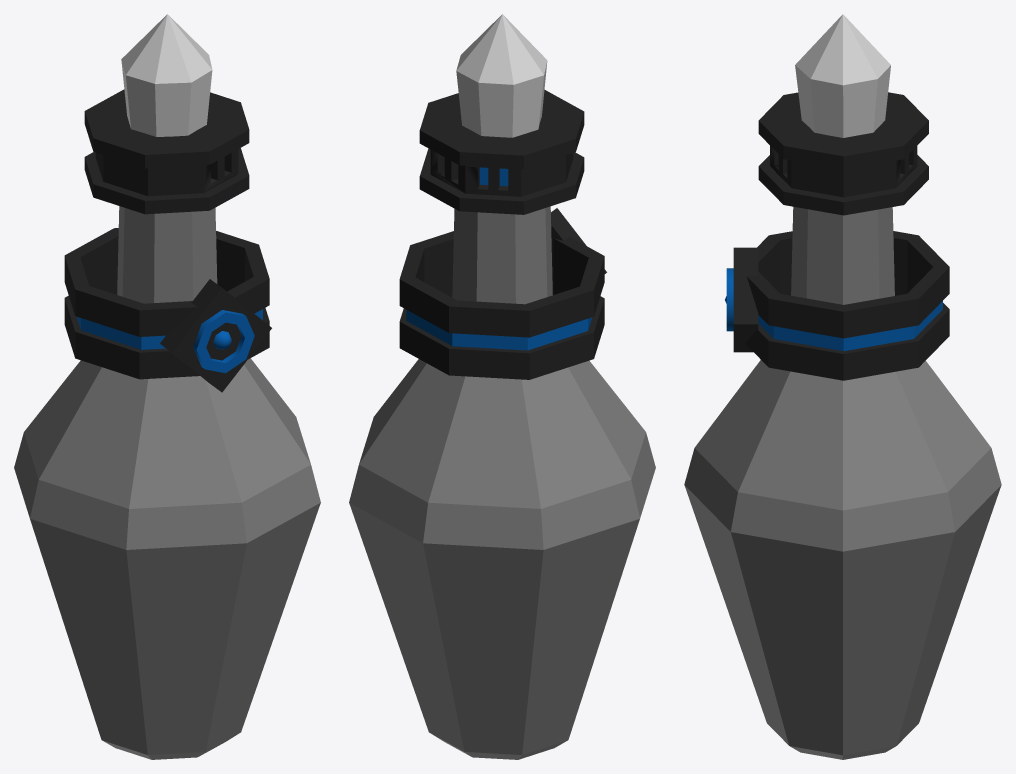
File: potion01(final).FBX
The picture shows the model from 3 angles, left to right: view 1: azimuth 30°, elevation 25°; view 2: azimuth 150°, elevation 25°; view 3: azimuth 270°, elevation 25°; orthographic projection.
Visible parts, largest first — view 1: potion1_glass, potion1_de01, potion1_de02, potion1_cap, potion1_de05, potion1_de03; view 2: potion1_glass, potion1_de01, potion1_de02, potion1_cap, potion1_de05; view 3: potion1_glass, potion1_de01, potion1_de02, potion1_cap, potion1_de05.
Boxes of the visible parts, bbox=[...] form: potion1_glass: bbox=[14, 206, 320, 759]; potion1_de01: bbox=[64, 228, 269, 379]; potion1_de02: bbox=[84, 89, 249, 214]; potion1_cap: bbox=[121, 14, 212, 136]; potion1_de05: bbox=[160, 279, 271, 392]; potion1_de03: bbox=[193, 310, 254, 373]; potion1_glass: bbox=[349, 206, 655, 759]; potion1_de01: bbox=[399, 231, 604, 379]; potion1_de02: bbox=[419, 90, 584, 214]; potion1_cap: bbox=[456, 14, 547, 137]; potion1_de05: bbox=[551, 208, 606, 294]; potion1_glass: bbox=[684, 206, 1001, 759]; potion1_de01: bbox=[745, 231, 949, 380]; potion1_de02: bbox=[758, 92, 928, 215]; potion1_cap: bbox=[795, 14, 890, 137]; potion1_de05: bbox=[733, 247, 758, 352].
Size of the model in its own units: 77.72 by 196 by 77.72.
